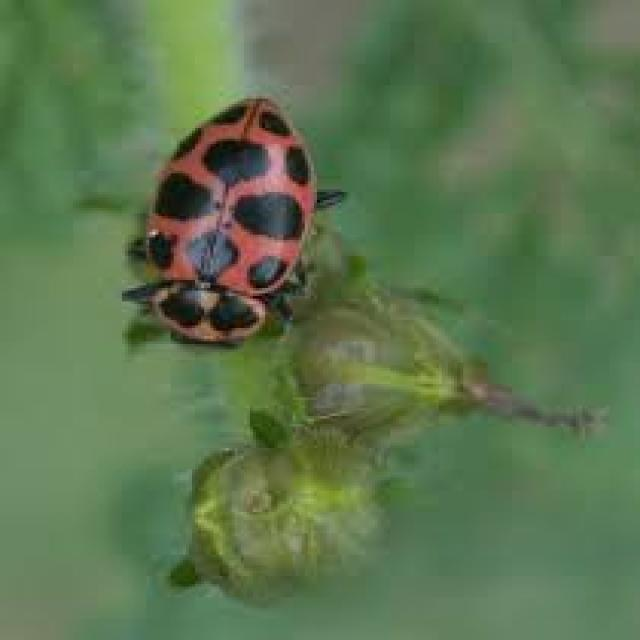bug: (125, 88, 350, 354)
